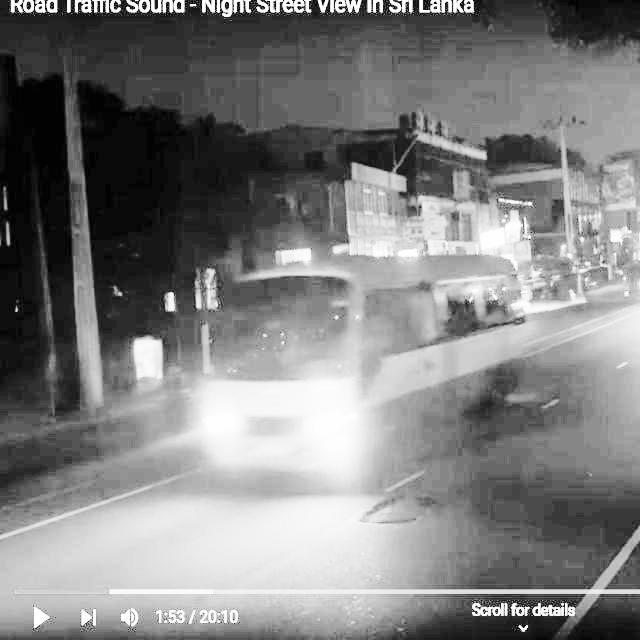Truck: (193, 248, 528, 492)
